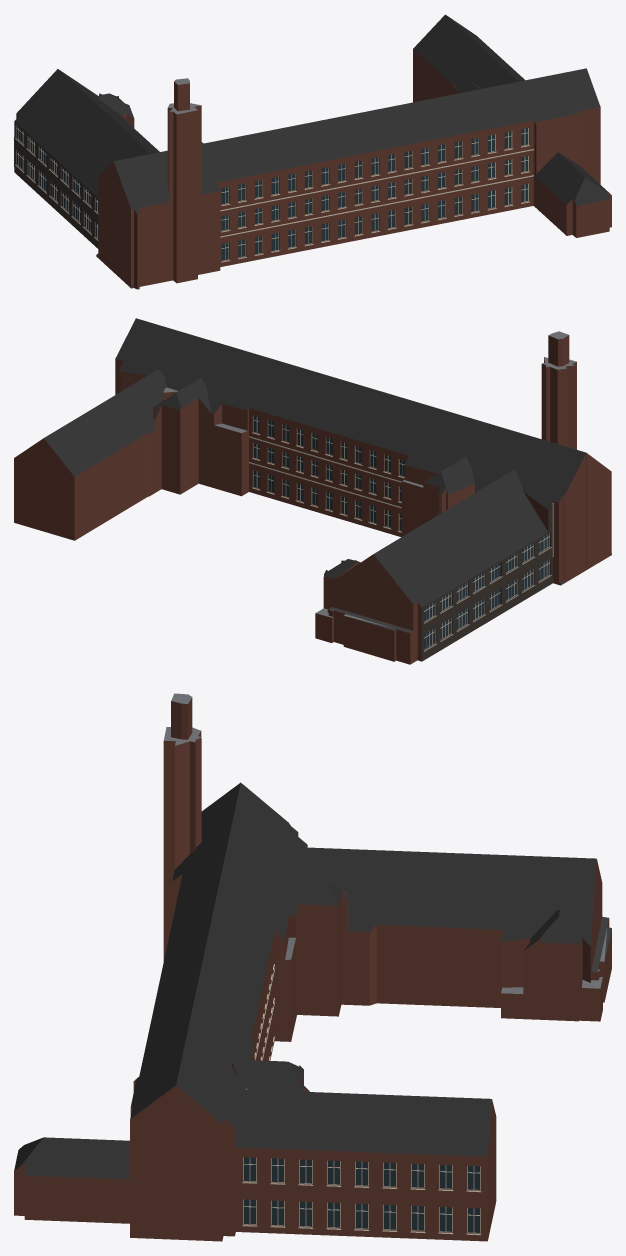
Rendered from recipe-large-vossius.glb.
3 renders of one model, top to bottom at view 1: azimuth 30°, elevation 25°; view 2: azimuth 150°, elevation 25°; view 3: azimuth 270°, elevation 25°, orthographic. The views are drawn at different scales.
Visible parts, largest first — view 1: vossius; view 2: vossius; view 3: vossius.
Part boxes in pixels (x1,y1,x2,y2): vossius: (14,14,611,289); vossius: (14,318,611,664); vossius: (14,693,611,1241).
Bounding box in the file's own units: 80.35 × 32.9 × 66.03.
